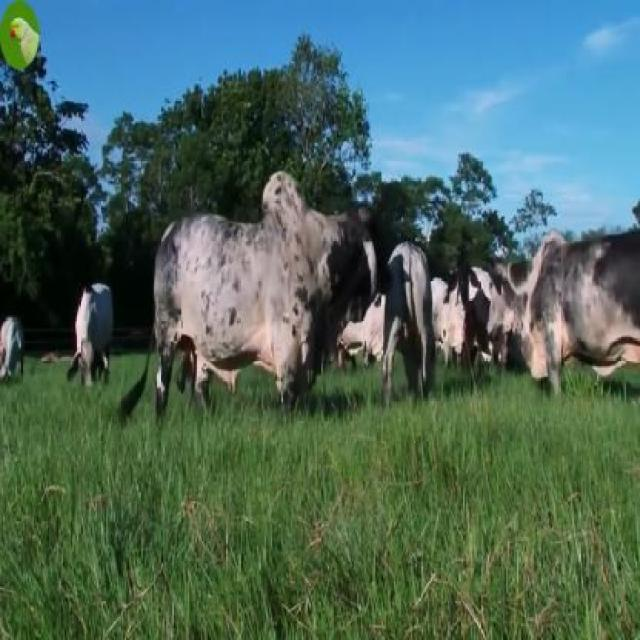Cow: (154, 172, 389, 430), (482, 232, 638, 402), (375, 240, 431, 412), (442, 263, 496, 382)
